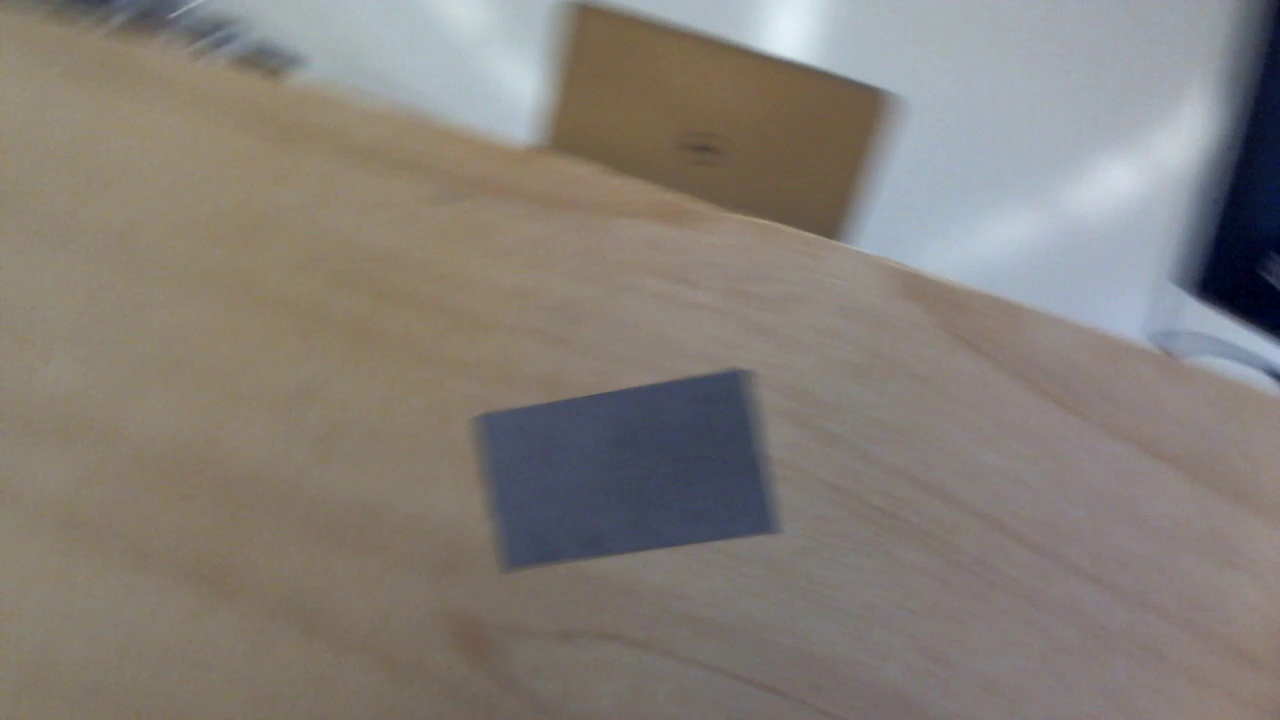Tape: (472, 368, 791, 574)
